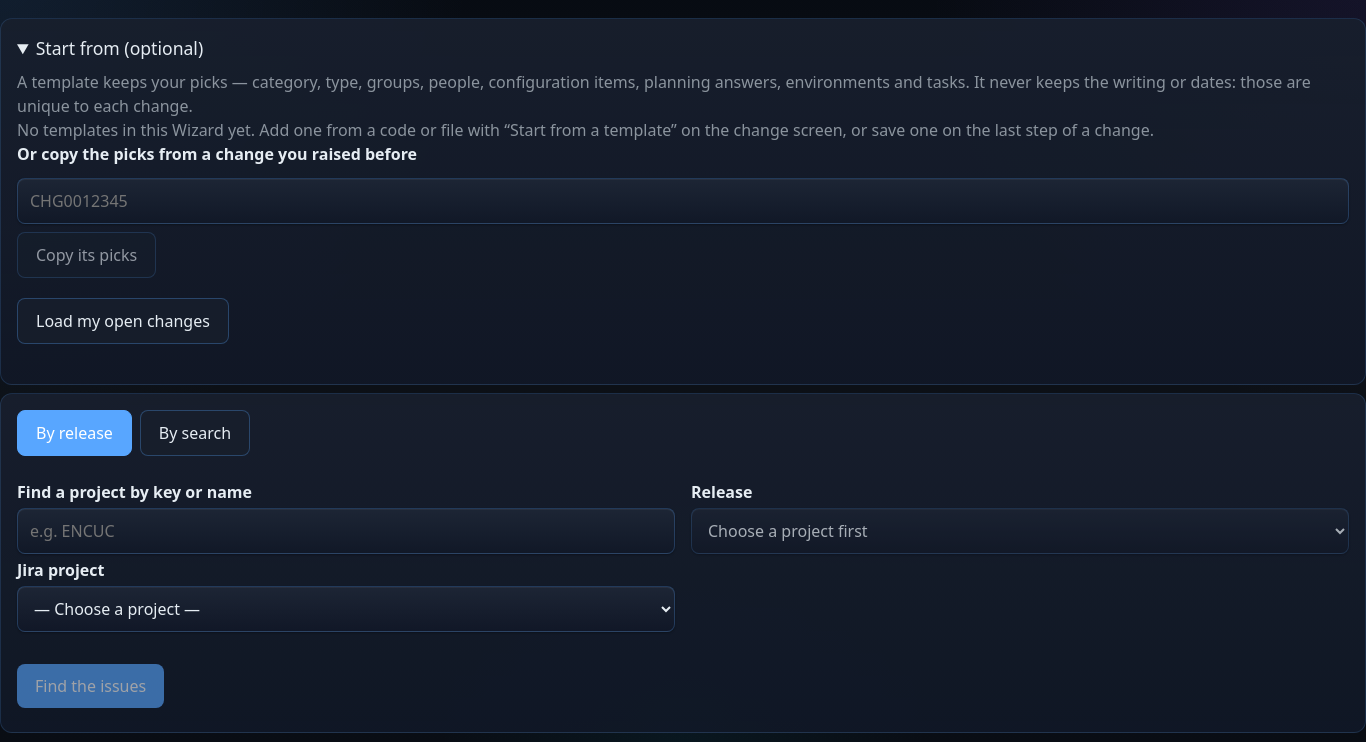
it: ScopeStep › says so when the release holds no issues
Type "abc" into the search field labelled "Find a project by key or name". click: (346,531)
box: [17,508,675,554]
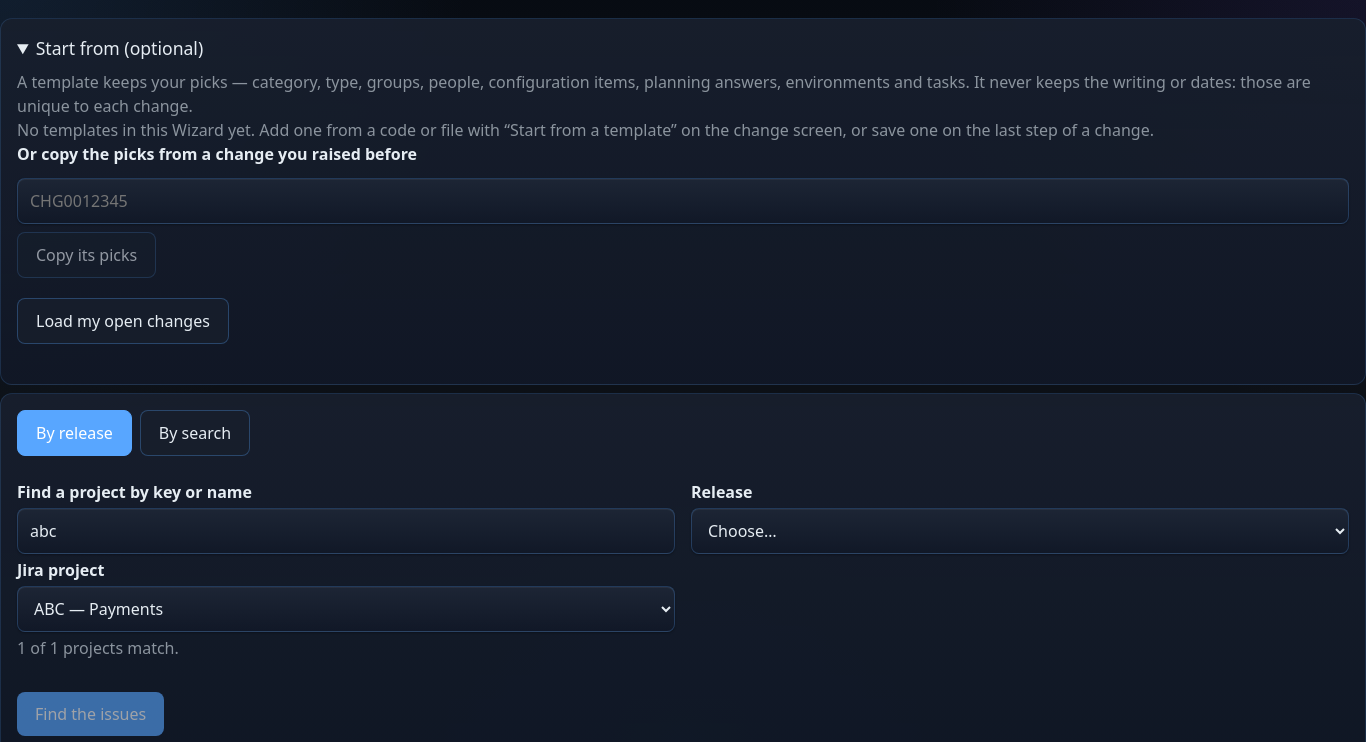
Expected: the dropdown labelled "Jira project" shows "ABC — Payments", [17,586,675,632]
Select "Release 12" in the dropdown labelled "Release". click: (1020,531)
box: [691,508,1349,554]
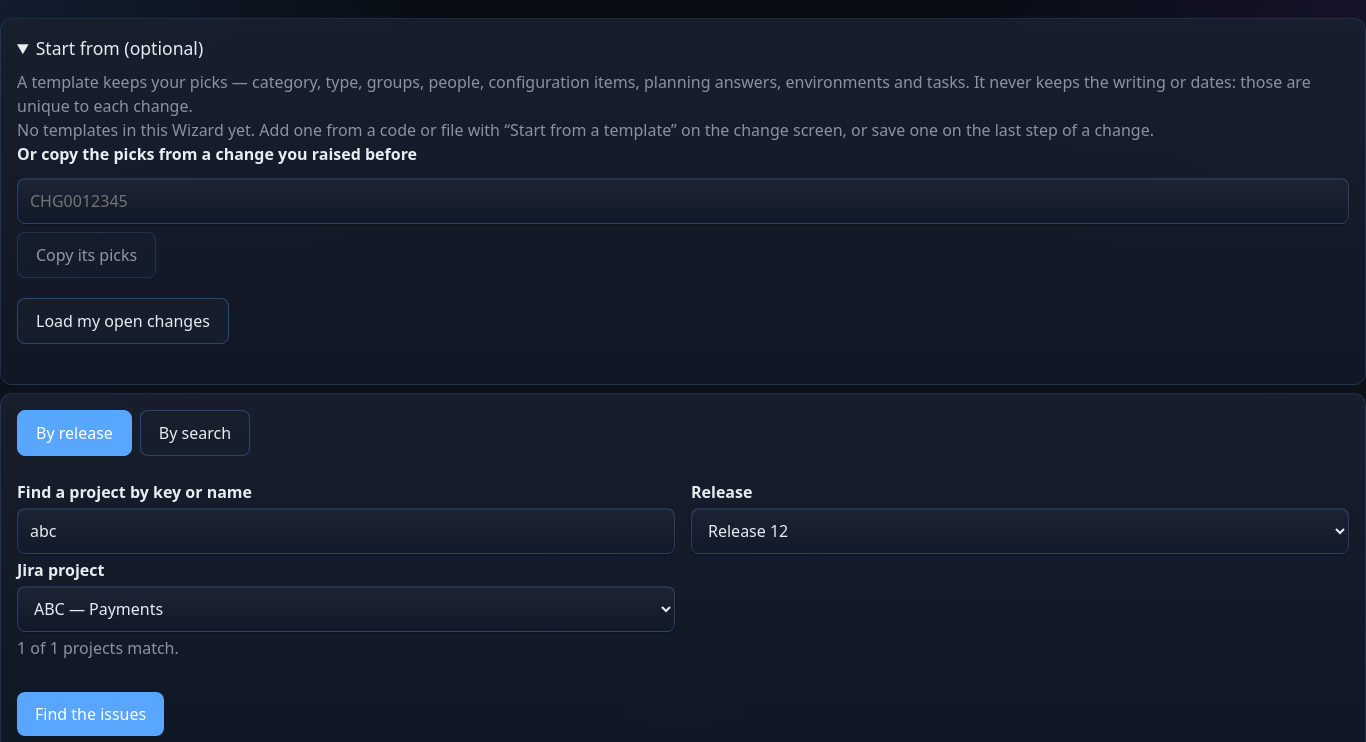
Click the button "Find the issues". click: (91,714)
box: [17,692,164,736]
(page scrolled)
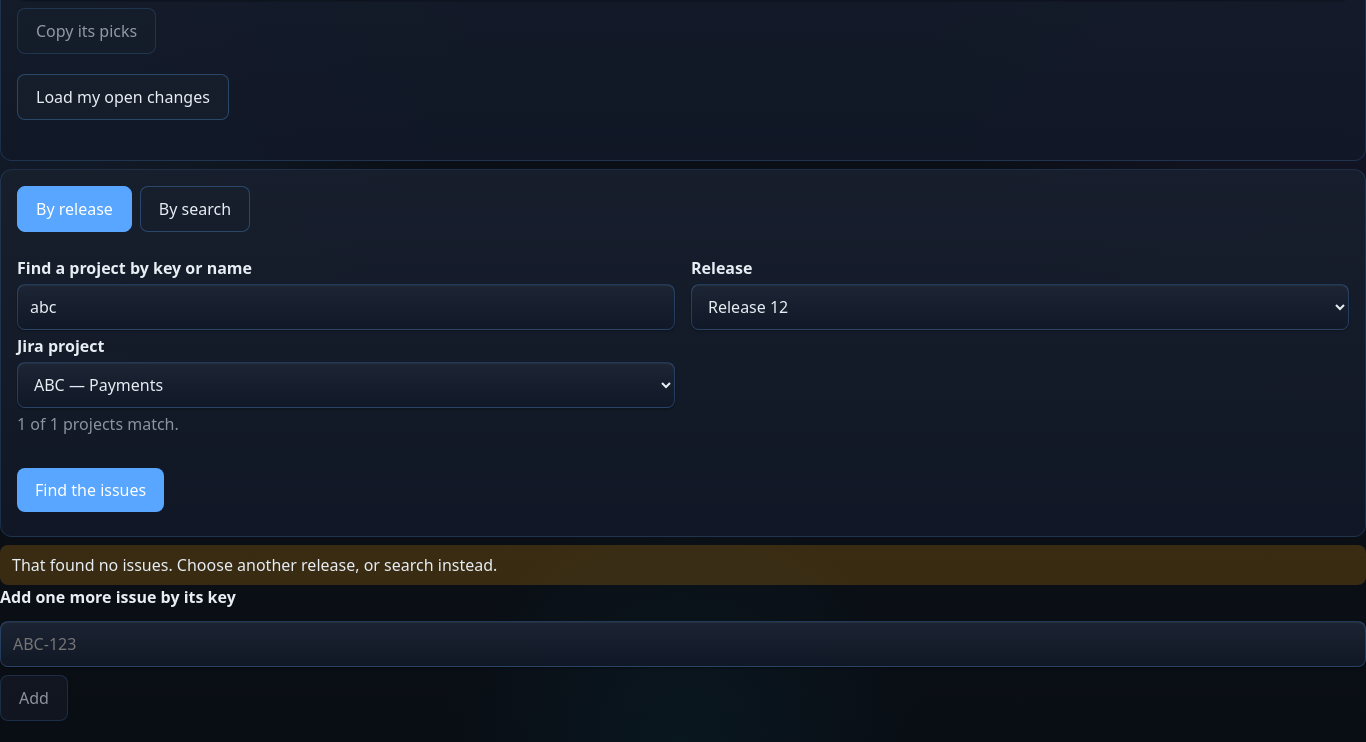
Expected: the text "That found no issues" is shown, [12,554,497,576]
